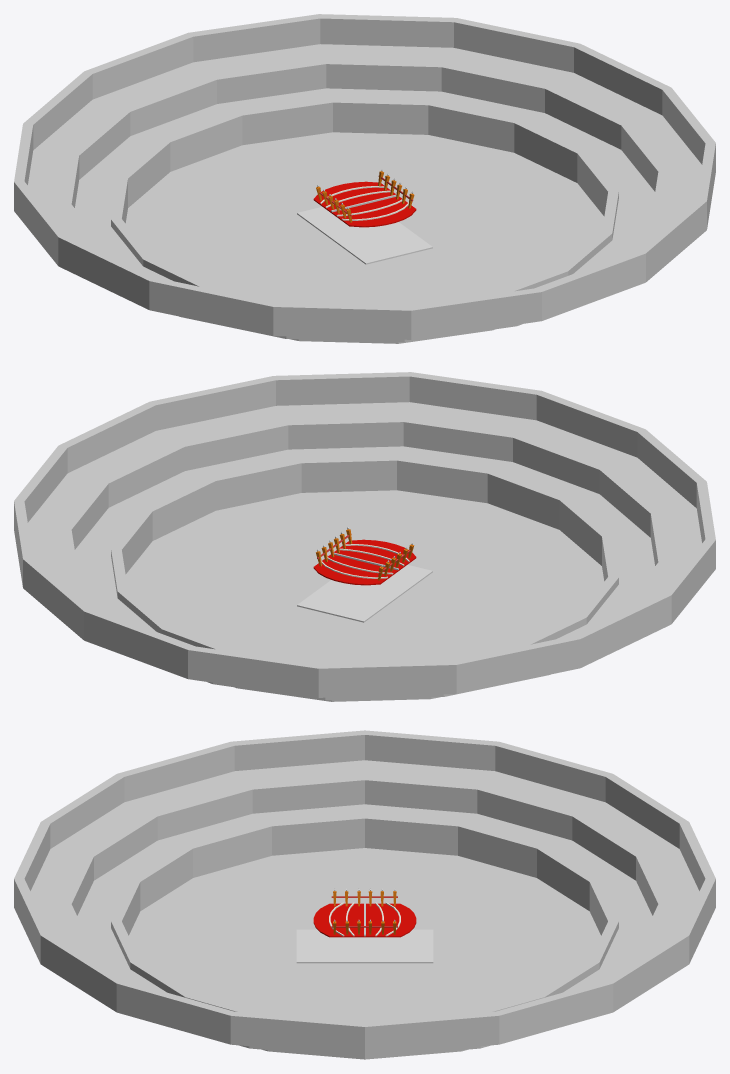
File: Arena Brantem.fbx
3 views of the same model, one above another, from view 1: azimuth 30°, elevation 25°; view 2: azimuth 150°, elevation 25°; view 3: azimuth 270°, elevation 25° (orthographic).
Parts seen in each view (by area): view 1: Cylinder, Plane, Plane.001, Plane.005; view 2: Cylinder, Plane, Plane.001, Plane.005; view 3: Cylinder, Plane, Plane.001.
Boxes of the visible parts, <box> form: Cylinder: <box>14,14,715,343</box>; Plane: <box>297,207,432,264</box>; Plane.001: <box>313,181,416,227</box>; Plane.005: <box>320,186,408,220</box>; Cylinder: <box>14,372,715,701</box>; Plane: <box>297,565,432,622</box>; Plane.001: <box>313,539,416,585</box>; Plane.005: <box>321,544,409,578</box>; Cylinder: <box>14,730,715,1059</box>; Plane: <box>296,929,433,963</box>; Plane.001: <box>313,903,416,937</box>.
Size of the model in its own units: 4215 by 487 by 4215.
